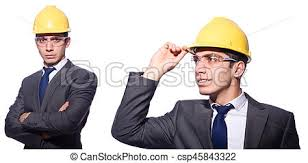Person_wearing_helmet: (188, 15, 250, 68), (29, 3, 72, 47)
